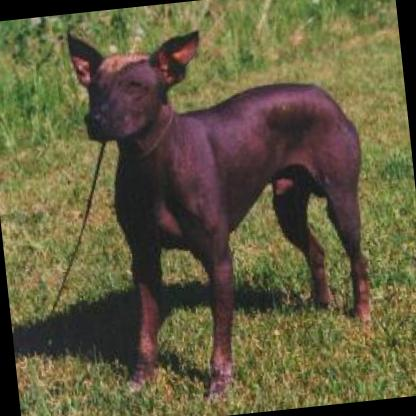Mexican_hairless: (60, 3, 384, 398)
